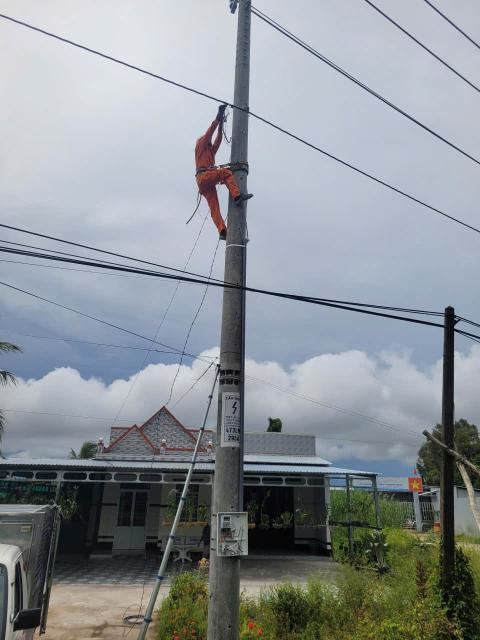gloves: (209, 102, 228, 119), (218, 117, 227, 131)
harness: (197, 161, 256, 173)
helmet: (193, 130, 213, 143)
shoes: (232, 192, 257, 206), (217, 225, 238, 241)
